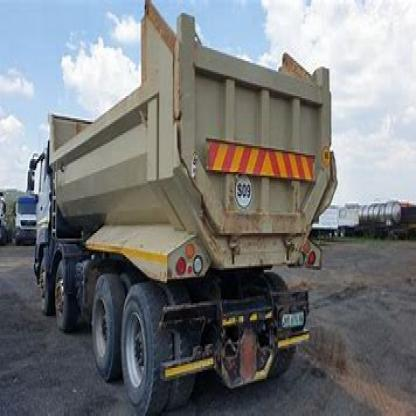dump_truck: (11, 7, 344, 414)
